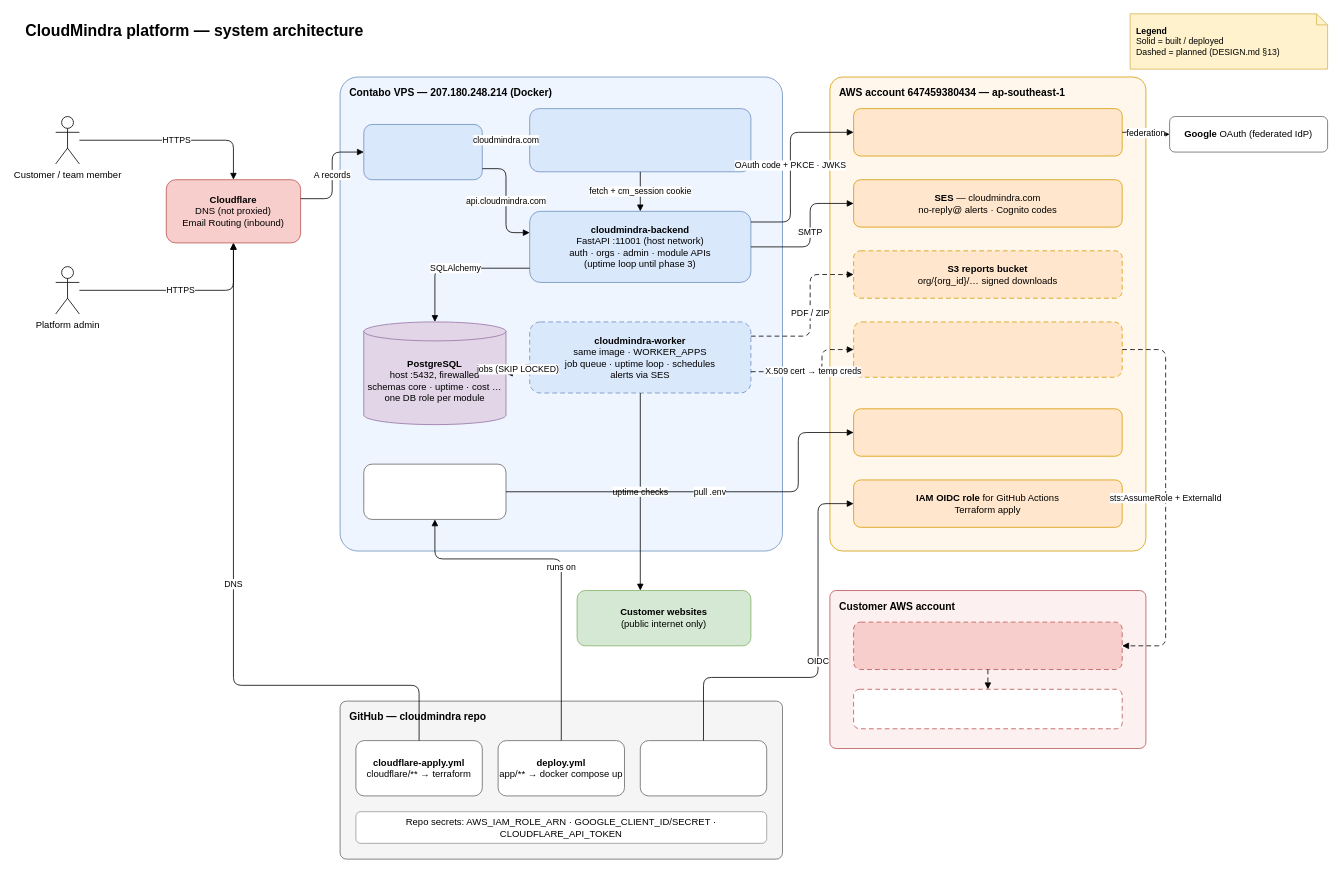
Image size: 1341x873. Some labels were removed from this diagram. Each missing label, with the centre of its shape:
aws-apply.yml aws/services/** → terraform: pixel 703 768
cloudmindra-frontend Astro SSR :11000 site · /portal · /admin: pixel 640 140
CloudMindraReadOnly role trusts CloudMindraHub + ExternalId: pixel 987 645
Cognito user pool + managed login cloudmindra-auth: pixel 987 132
Cost Explorer · Config · IAM · S3 · EC2 … (read-only): pixel 987 708
GitHub Actions runner self-hosted · deploy.yml: pixel 434 491
IAM Roles Anywhere → role CloudMindraHub (only sts:AssumeRole CloudMindra*): pixel 987 349
nginx TLS + reverse proxy: pixel 422 152
S3 cloudmindra.com Terraform state · backend/.env: pixel 987 432
